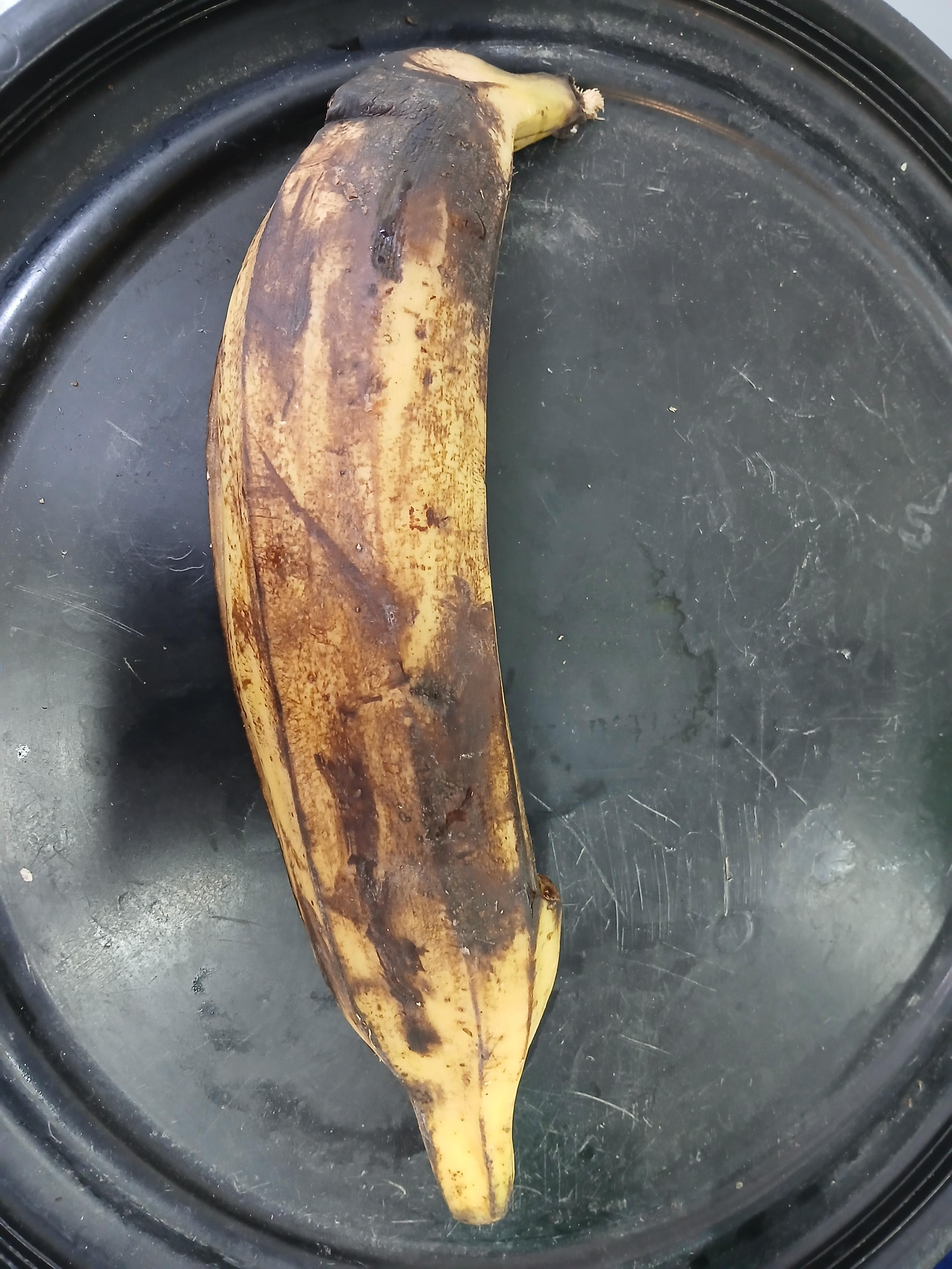Organico: (207, 42, 604, 1221)
